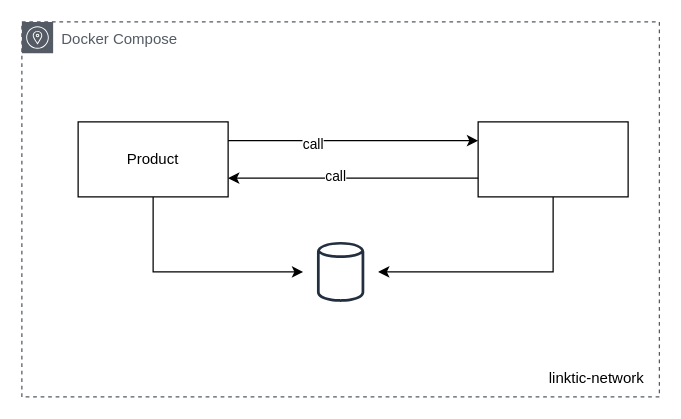
This 681x419 diagram has some shape labels left out. Here are the shapes that lost their labels. From the top down, the centre of each, then its label:
(x=552, y=159): Stock
(x=340, y=271): linktic
